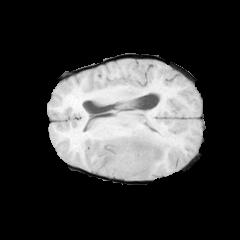glioma: (100, 124, 170, 173)
